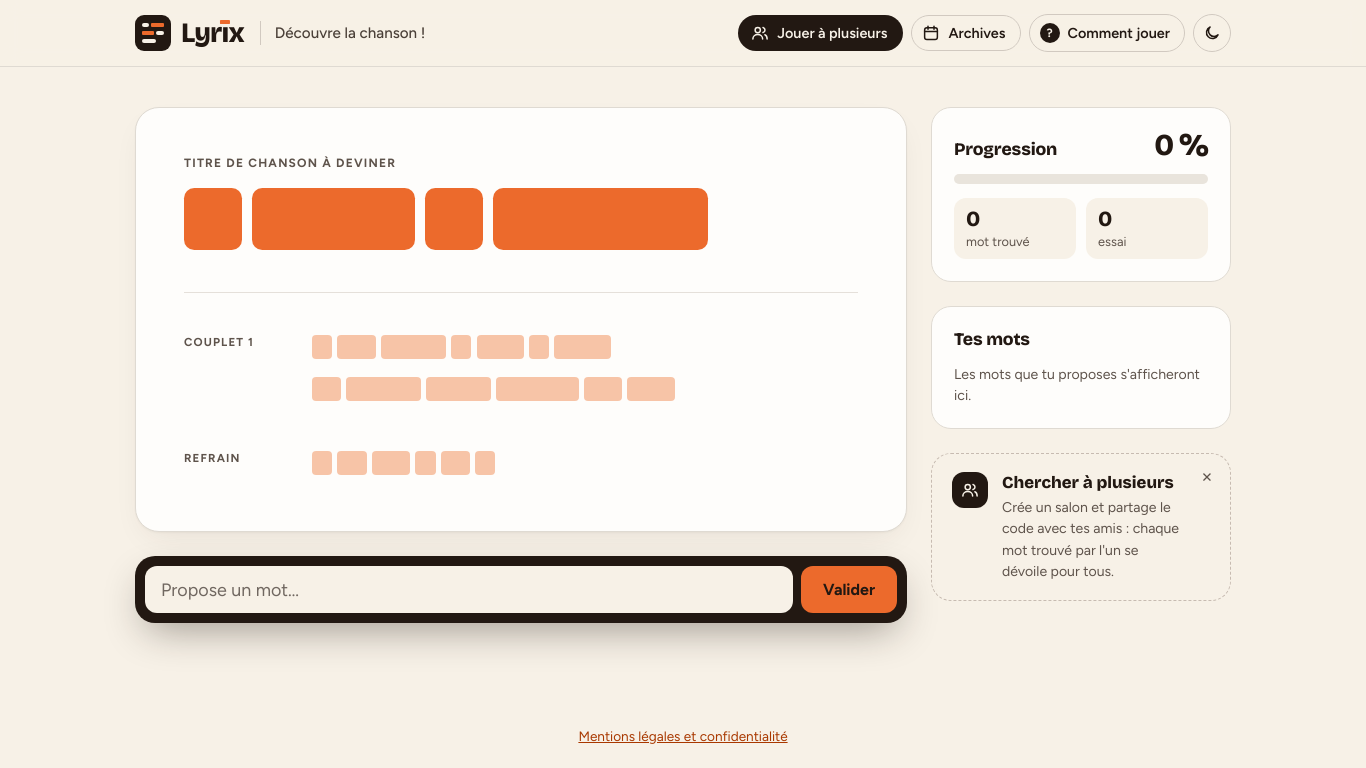
it: submitting a guess › re-renders the lyrics, since that is what changed
This screenshot has width=1366, height=768.
Type "vent" into the field with placeholder "Propose un mot…".
click(469, 589); type("vent")  # box [145, 566, 793, 613]
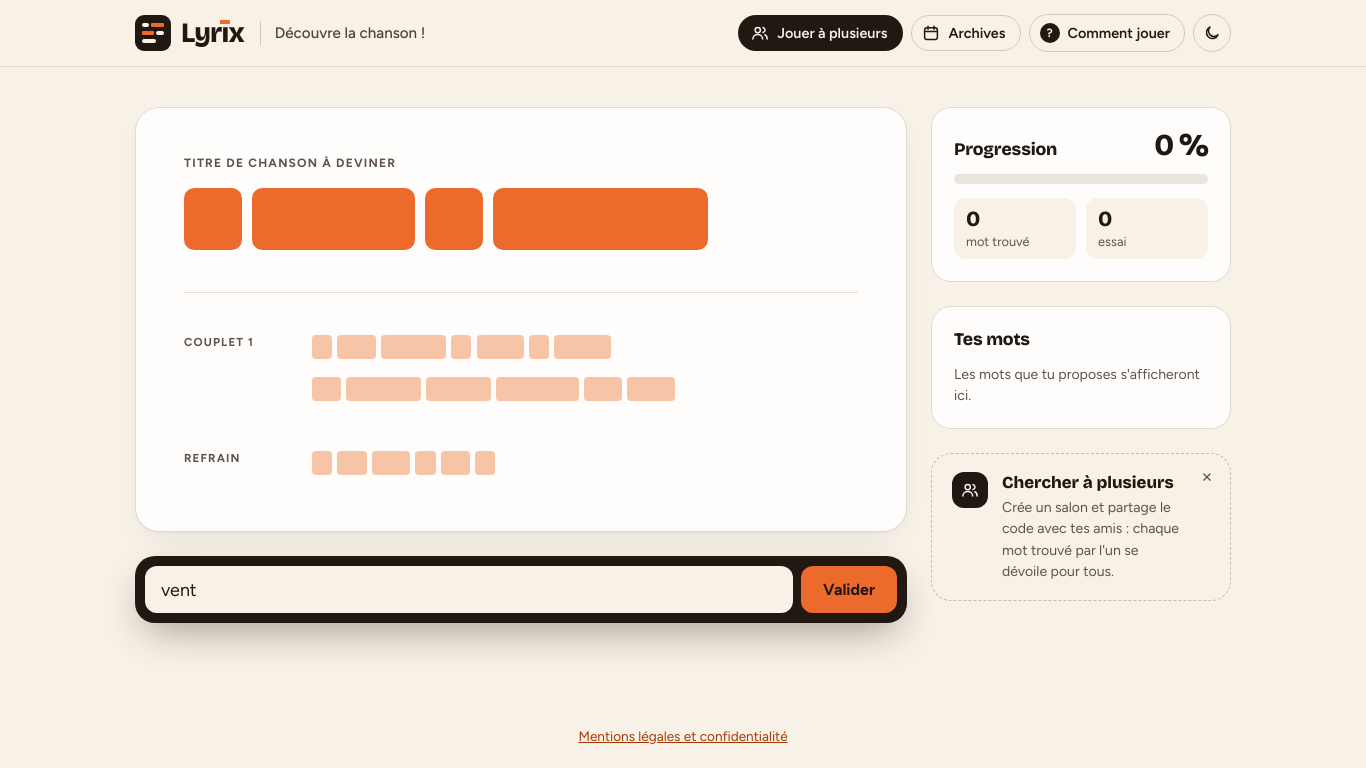
Submit the form from the field with placeholder "Propose un mot…", box [145, 566, 793, 613]
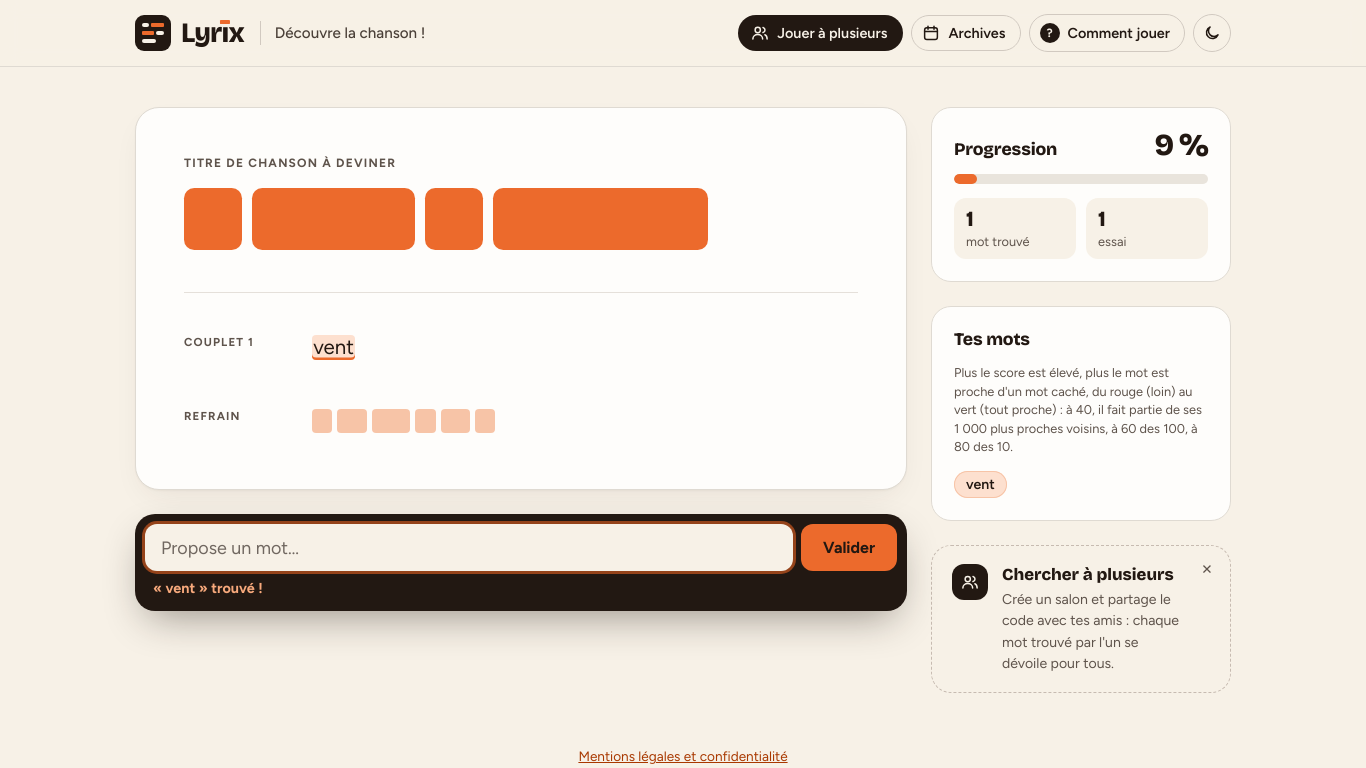
Expected: the text "vent" next to "Couplet 1" is shown, [313, 335, 354, 359]
